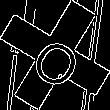O_NE: (24, 22, 86, 88)
